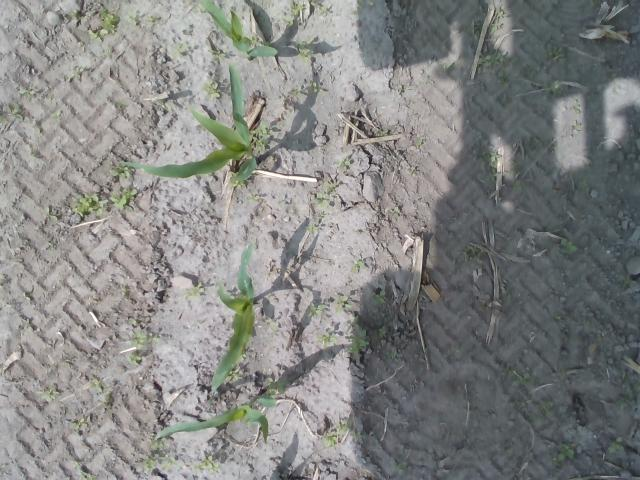Maize: (121, 62, 258, 184), (210, 240, 256, 394), (153, 395, 278, 445), (196, 0, 279, 62)
Weeds: (69, 189, 137, 215), (476, 51, 518, 88), (323, 418, 361, 447), (128, 333, 161, 364), (90, 6, 120, 40), (616, 368, 640, 410), (502, 366, 540, 387), (311, 179, 337, 209), (478, 148, 499, 184), (0, 102, 25, 125), (526, 401, 554, 421), (252, 122, 270, 153), (348, 327, 370, 352), (193, 455, 220, 474), (262, 377, 288, 396), (542, 44, 566, 64), (92, 377, 112, 400), (605, 433, 625, 455), (288, 81, 318, 95), (545, 82, 570, 98), (554, 442, 575, 461), (202, 78, 220, 99), (74, 464, 97, 480), (463, 19, 480, 40), (311, 0, 331, 17), (127, 14, 160, 24), (462, 244, 482, 260), (41, 384, 60, 400), (110, 164, 130, 178), (335, 294, 352, 310), (187, 282, 204, 298), (560, 240, 578, 255), (298, 41, 311, 61), (308, 302, 326, 316), (290, 0, 305, 15), (511, 179, 528, 192), (577, 175, 590, 192), (315, 334, 335, 345), (111, 99, 129, 111), (18, 86, 38, 96), (581, 319, 595, 333), (373, 290, 385, 306), (526, 135, 542, 147), (142, 458, 158, 470), (351, 258, 364, 272), (162, 456, 175, 470), (72, 416, 85, 430), (383, 350, 401, 360), (390, 462, 408, 472), (150, 439, 166, 450), (170, 44, 184, 56), (622, 276, 636, 288), (574, 96, 582, 113), (214, 48, 225, 60), (227, 370, 239, 379), (336, 158, 351, 165), (248, 34, 257, 44), (53, 112, 64, 120), (378, 324, 385, 336), (308, 223, 317, 232), (489, 23, 497, 32), (376, 130, 388, 136), (68, 10, 78, 17), (285, 19, 293, 27), (240, 354, 248, 362), (232, 181, 240, 188)
